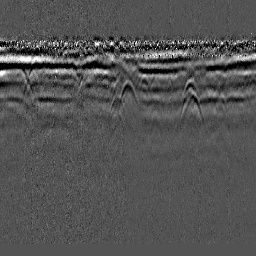cavity: (118, 78, 140, 107)
